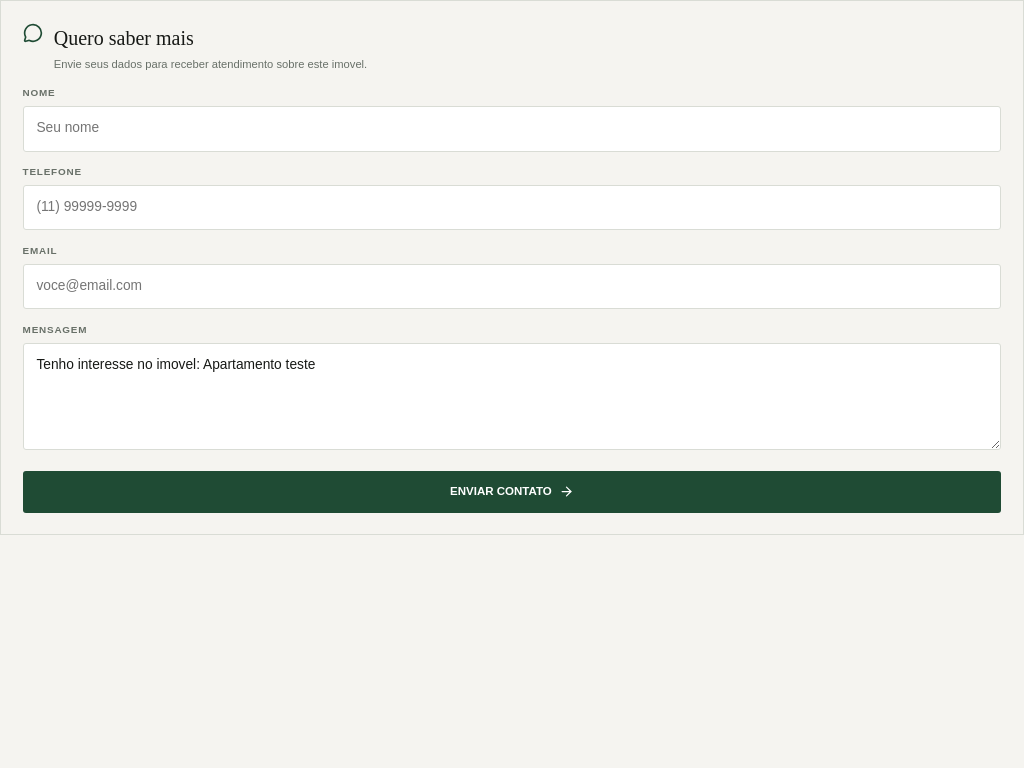
Test: LeadForm › envia lead valido e mostra feedback de sucesso
The width and height of the screenshot is (1024, 768).
In the field labelled "Nome": [512, 129] box [23,106,1001,152], type "Maria Silva"
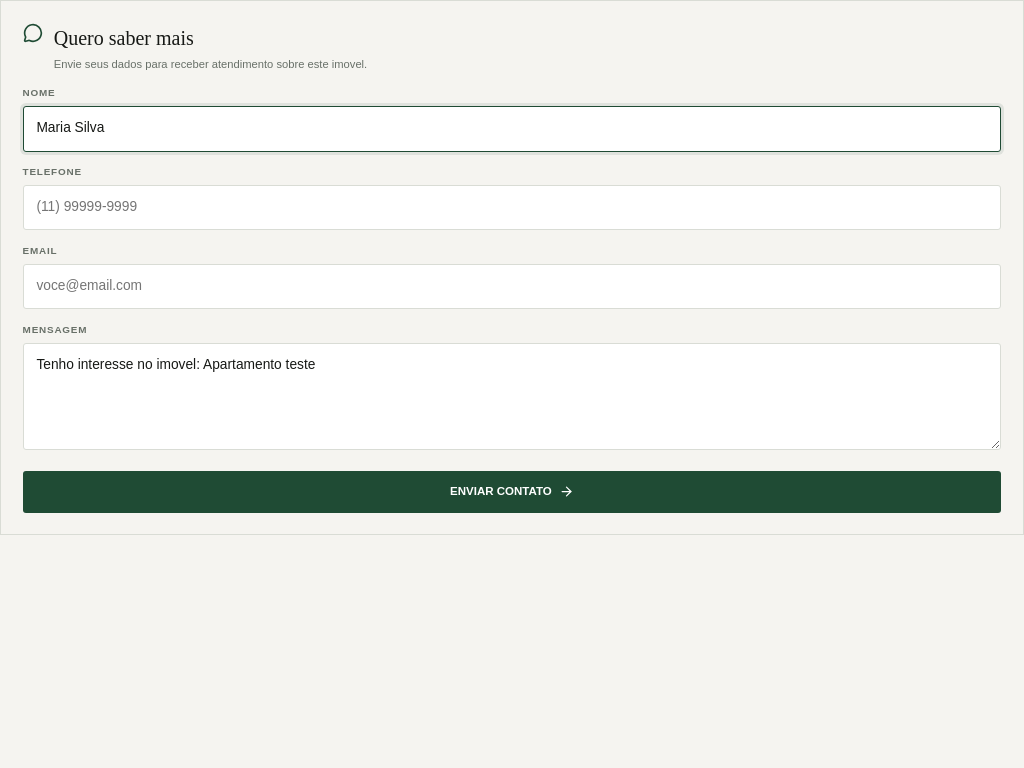
In the field labelled "Telefone": [512, 208] box [23,185,1001,230], type "11999999999"
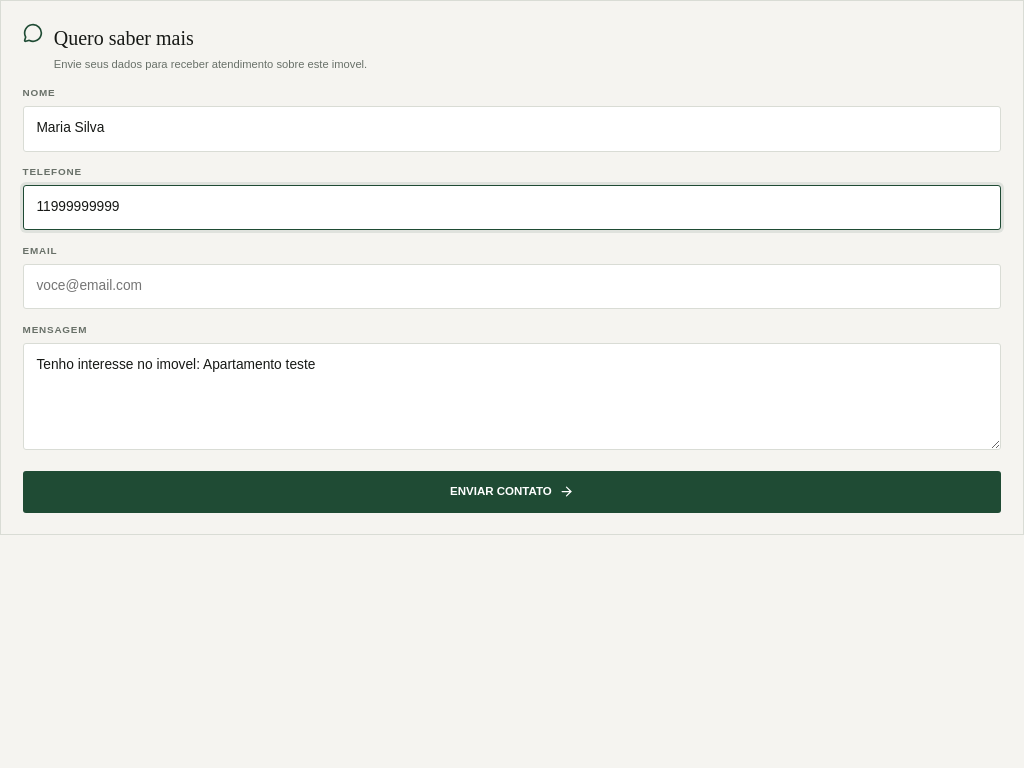
In the field labelled "Email": [512, 287] box [23,264,1001,309], type "maria@example.com"
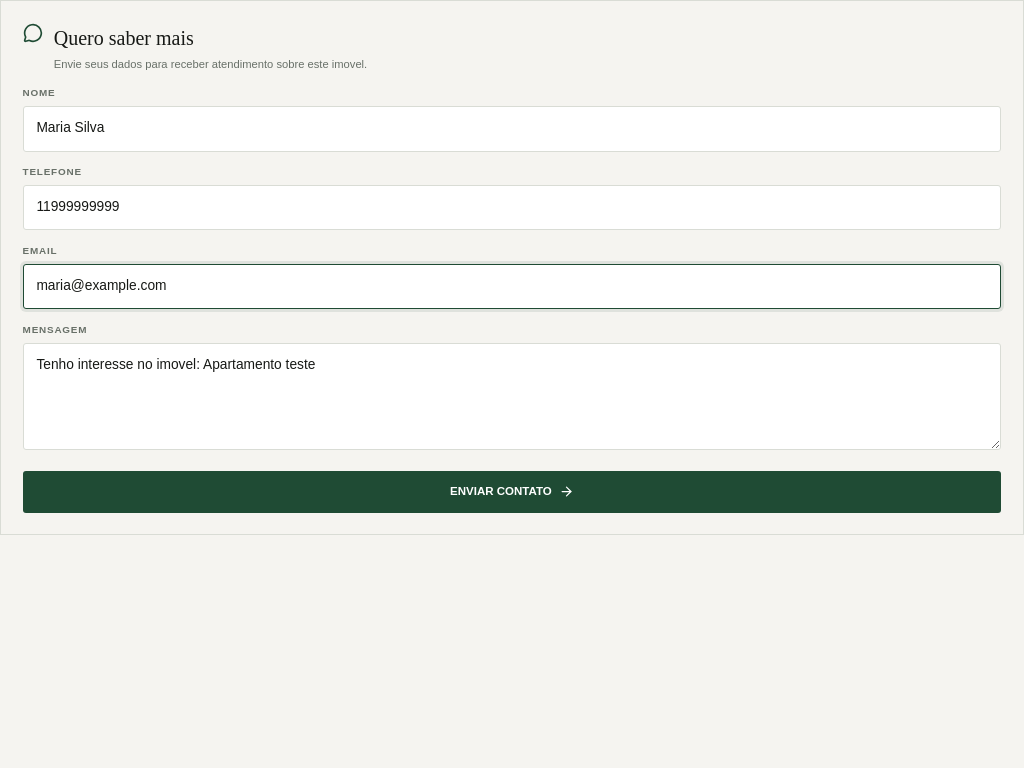
Click the button "Enviar contato": [512, 492] box [23,471,1001,513]
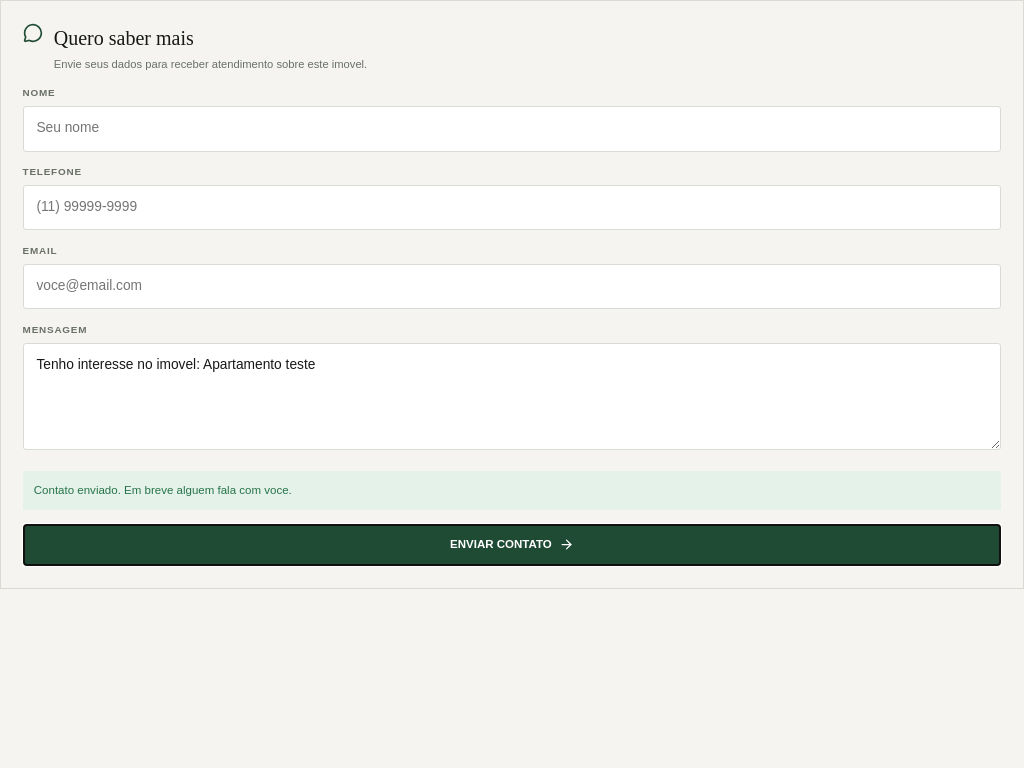
Result: the text "Contato enviado. Em breve alguem fala com voce." is shown at [23,471,1001,510]
